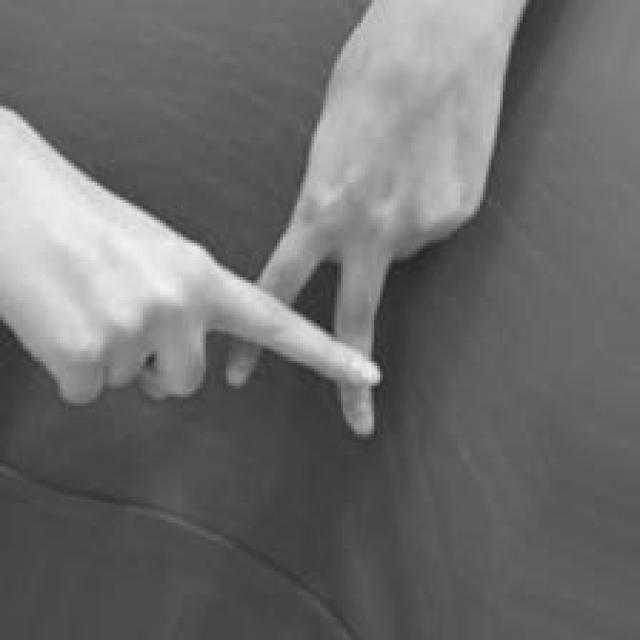A: (57, 105, 493, 441)
